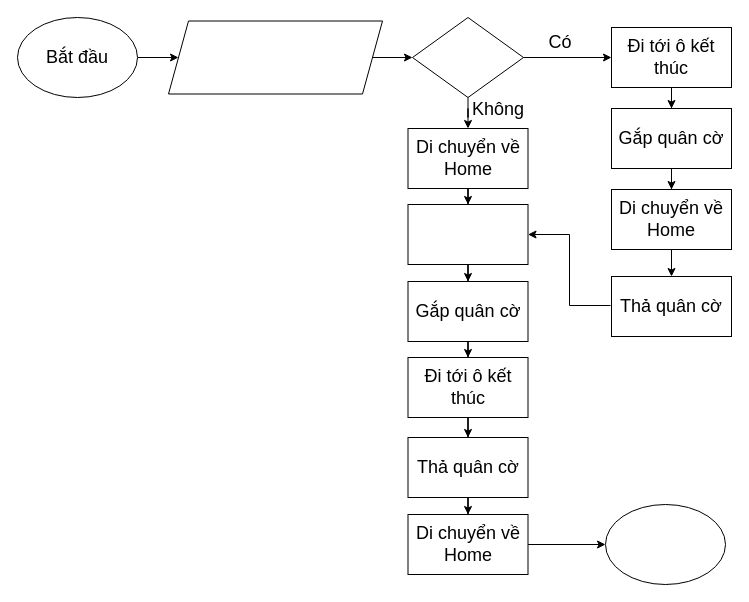
Some shapes in this 749 by 602 pixel diagram are drawn without their labels. The shapes that lost their labels are listed below. From the top down, each one's box as (x1, y1, x2, y2) in pixels, then its label:
(168, 20, 382, 94): Ô bắt đầu, ô kết thúc, có ăn quân không
(412, 16, 524, 98): Ăn quân?
(407, 204, 528, 264): Đi tới ô bắt đầu
(604, 504, 726, 584): Kết thúc
